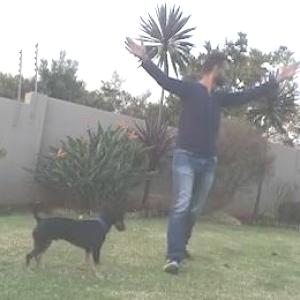takeoff: (122, 34, 294, 250)
